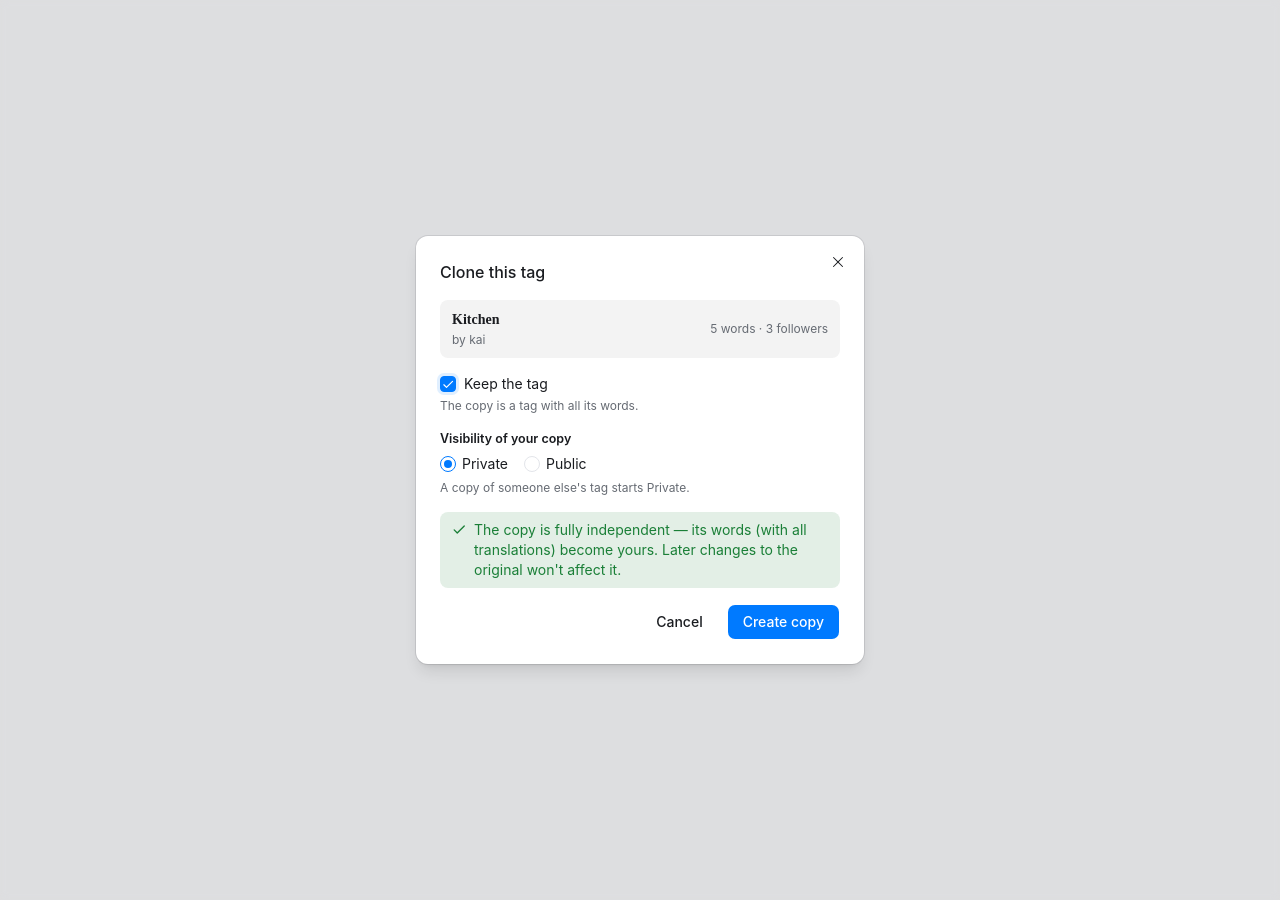
Test case: CloneTagDialog › shows an inline error and stays open when the clone request fails
The width and height of the screenshot is (1280, 900).
Click the button "Create copy": (783, 622) left=727, top=604, right=840, bottom=640
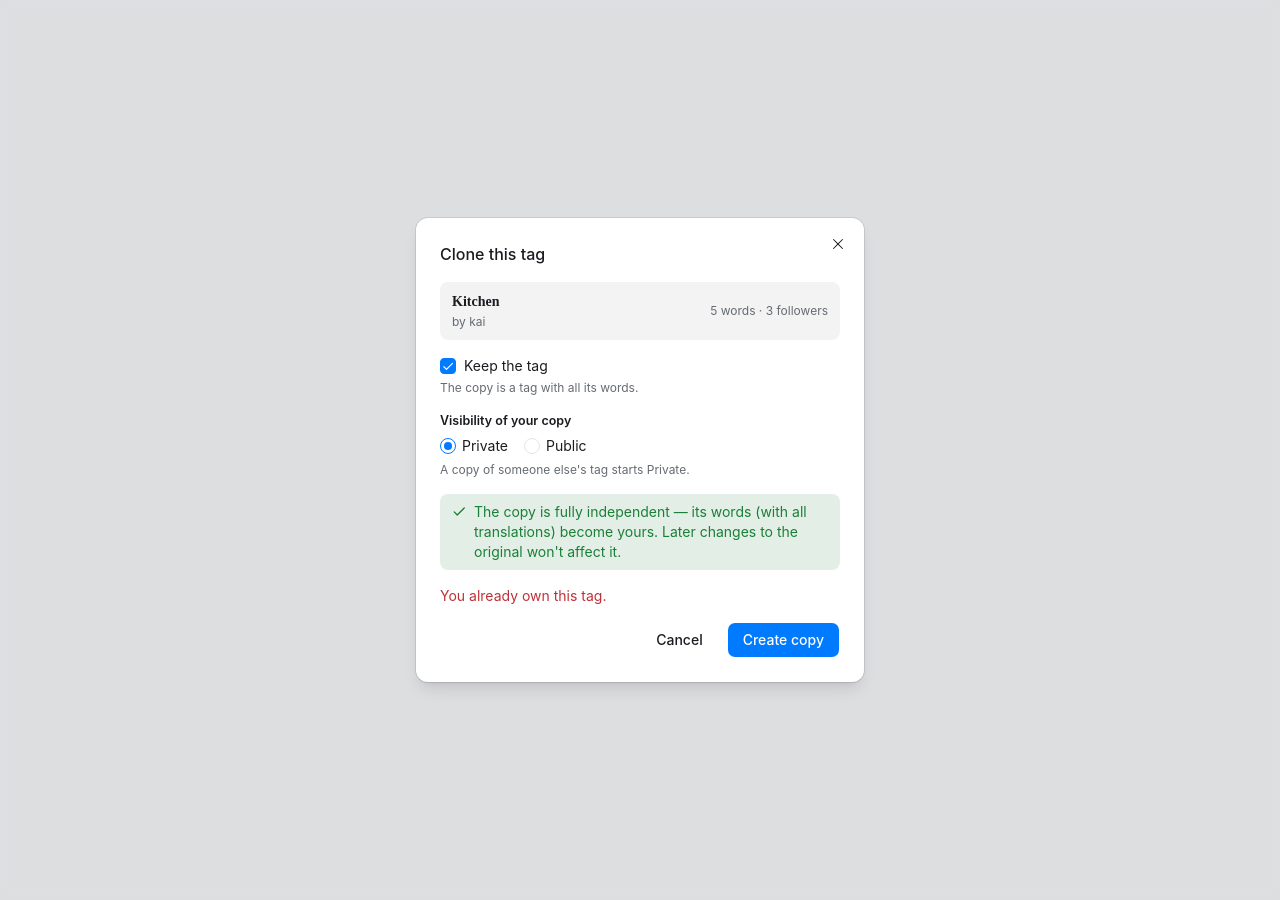
Expected: the text "You already own this tag." is shown, left=440, top=587, right=606, bottom=604
